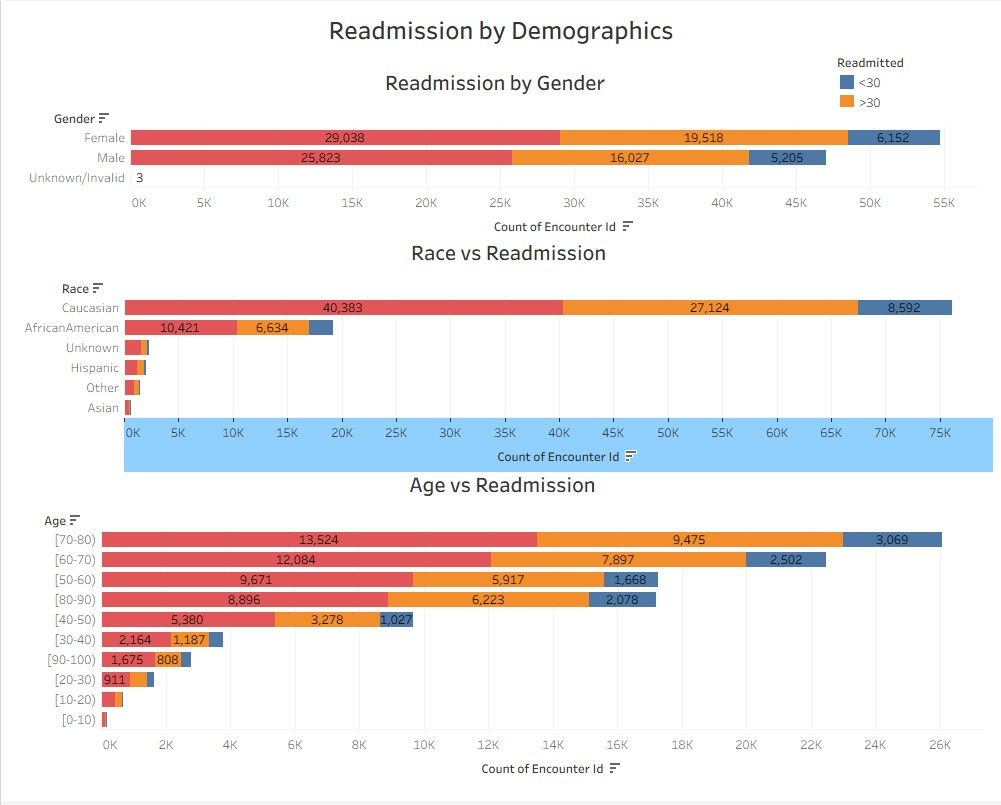

Layout of this report page (visuals, bound fields, positions):
{"tool":"tableau","page":{"name":"Readmission by Demographics","canvas":[1000,800],"ordinal":3},"visuals":[{"type":"title","box":[8,8,984,41]},{"type":"legend","title":"Readmission by gender","param":"[federated.0oflpi203zwt6210qwj6h0exc8m3].[none:readmitted:nk]","box":[832,49,160,743]},{"type":"worksheet","title":"Readmission by gender","mark":"Automatic","rows":["gender"],"cols":["encounter_id"],"box":[9,63,970,193]},{"type":"worksheet","title":"Race vs Readmission","mark":"Automatic","rows":["race"],"cols":["encounter_id"],"box":[23,233,969,277]},{"type":"worksheet","title":"Age Vs Readmission","mark":"Automatic","rows":["age"],"cols":["encounter_id"],"box":[20,465,975,336]}]}

Visuals, with their boxes in screenshot pixels (x1, y1, x2, y2), scaled from the page's 1000x800 canvas onto the 1001x805 screenshot:
title: pyautogui.locateOnScreen(8, 8, 993, 49)
"Readmission by gender" legend: pyautogui.locateOnScreen(833, 49, 993, 797)
"Readmission by gender" worksheet: pyautogui.locateOnScreen(9, 63, 980, 258)
"Race vs Readmission" worksheet: pyautogui.locateOnScreen(23, 234, 993, 513)
"Age Vs Readmission" worksheet: pyautogui.locateOnScreen(20, 468, 996, 804)
